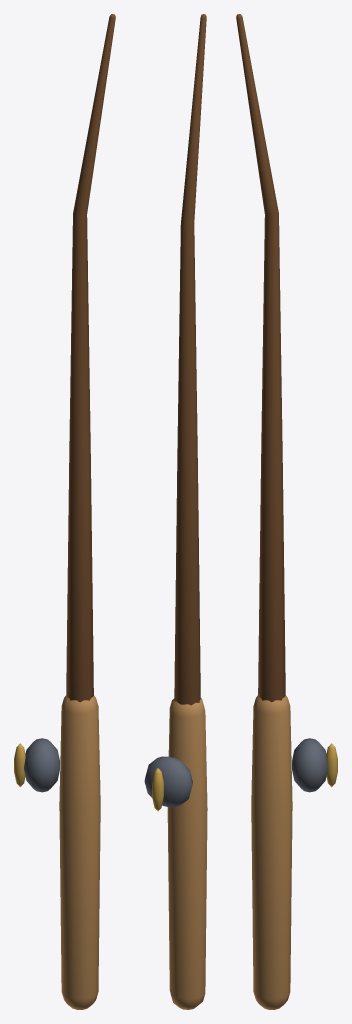
Rendered from rod.glb.
3 renders of one model, left to right at view 1: azimuth 90°, elevation 25°; view 2: azimuth 150°, elevation 25°; view 3: azimuth 270°, elevation 25°, orthographic.
Parts seen in each view (by area): view 1: wood, cork, steeldark, brass; view 2: wood, cork, steeldark, brass; view 3: wood, cork, steeldark, brass.
Part boxes in pixels (<box>): wood: <box>66,14,115,702</box>; cork: <box>59,695,100,1009</box>; steeldark: <box>24,738,59,792</box>; brass: <box>14,743,25,787</box>; wood: <box>174,14,206,705</box>; cork: <box>167,698,207,1009</box>; steeldark: <box>144,756,192,807</box>; brass: <box>152,768,163,811</box>; wood: <box>236,14,285,702</box>; cork: <box>251,695,292,1009</box>; steeldark: <box>292,738,327,792</box>; brass: <box>326,743,337,787</box>.
Size of the model in its own units: 0.1 by 2.02 by 0.1873.
